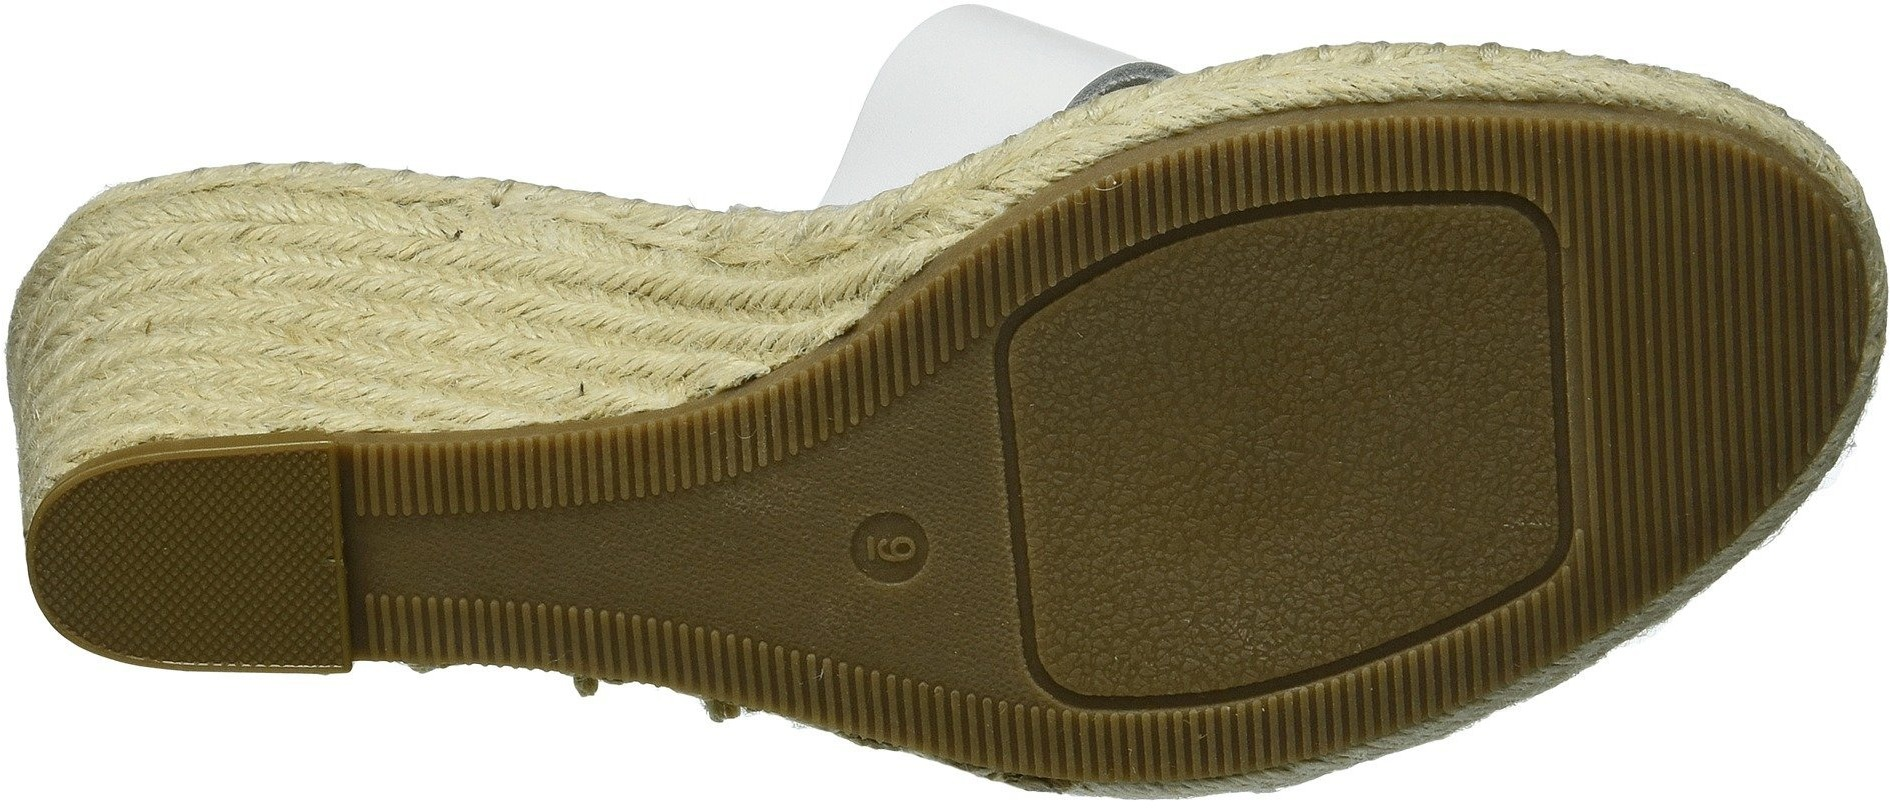circle: (837, 496, 944, 605)
other: (1066, 293, 1405, 638), (1577, 207, 1838, 437), (88, 464, 286, 640), (1414, 327, 1549, 445), (642, 503, 763, 623)
text: (859, 520, 923, 582)
